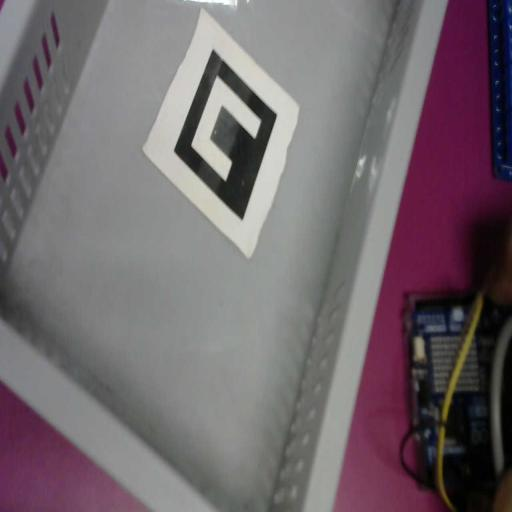QR: (142, 8, 300, 259)
